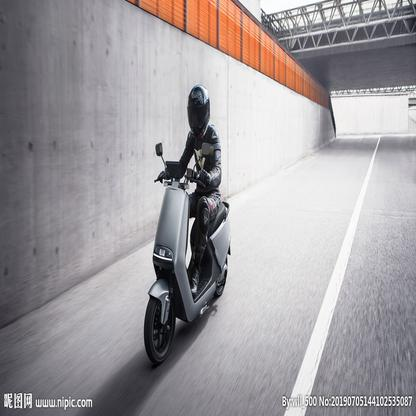target: (143, 82, 234, 365)
